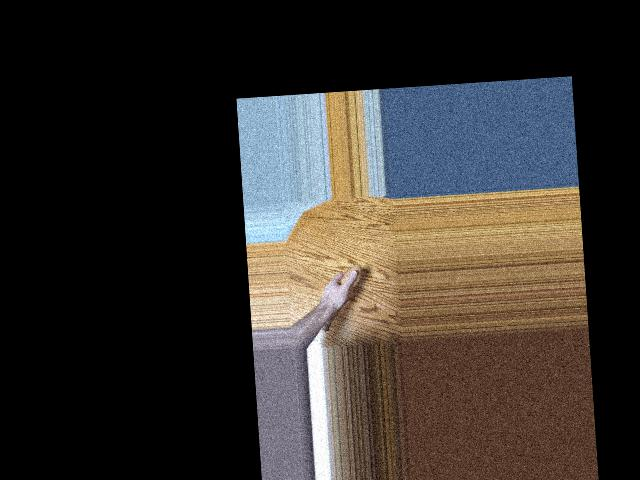sweet_potato: (316, 263, 365, 333)
